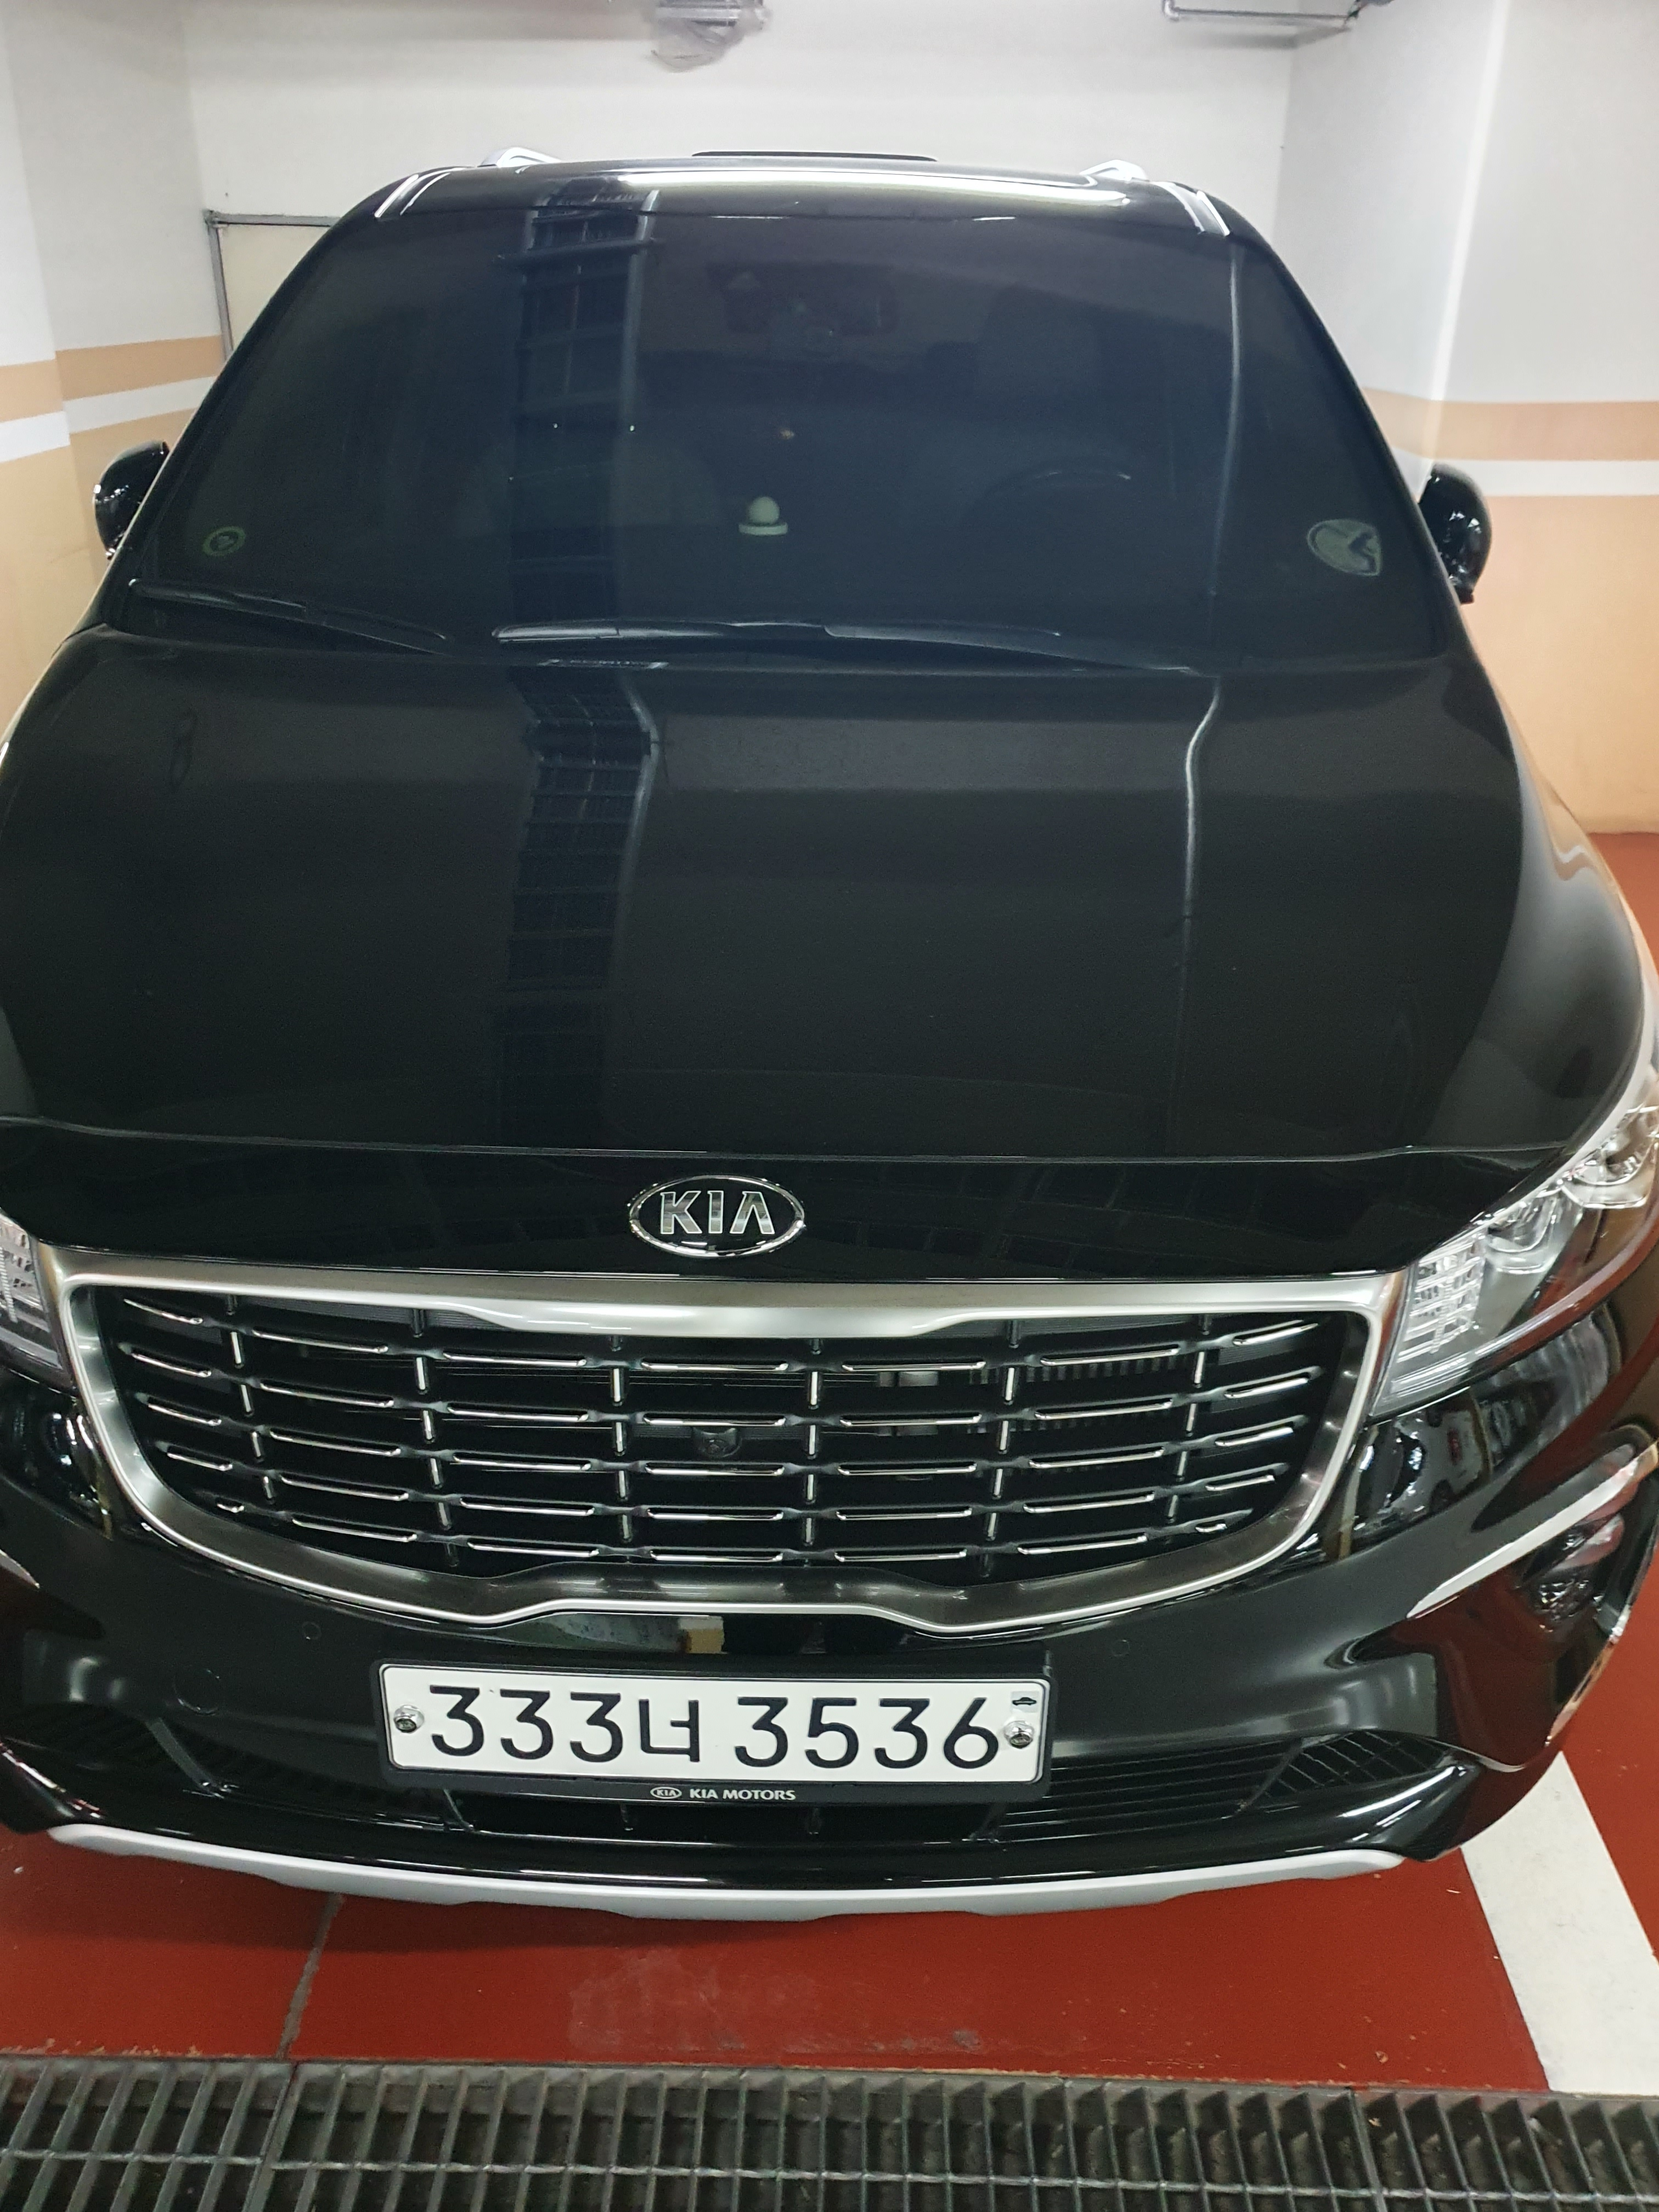apart_parking: (200, 523, 253, 552)
disabled_parking: (1302, 514, 1385, 582)
